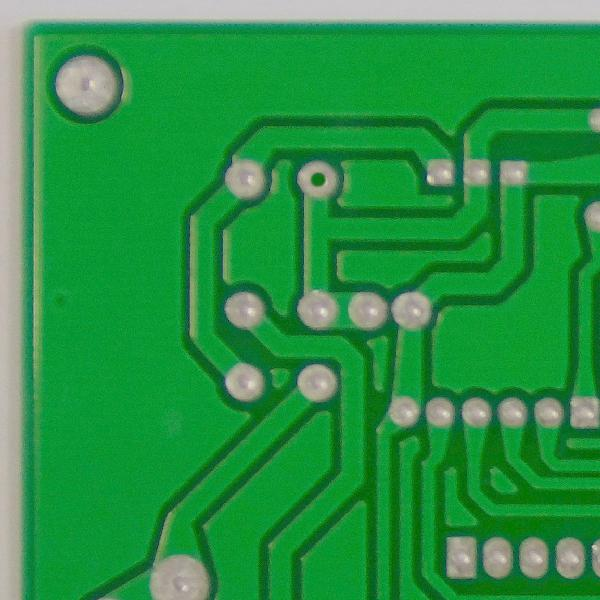missing_hole: (298, 157, 337, 201)
